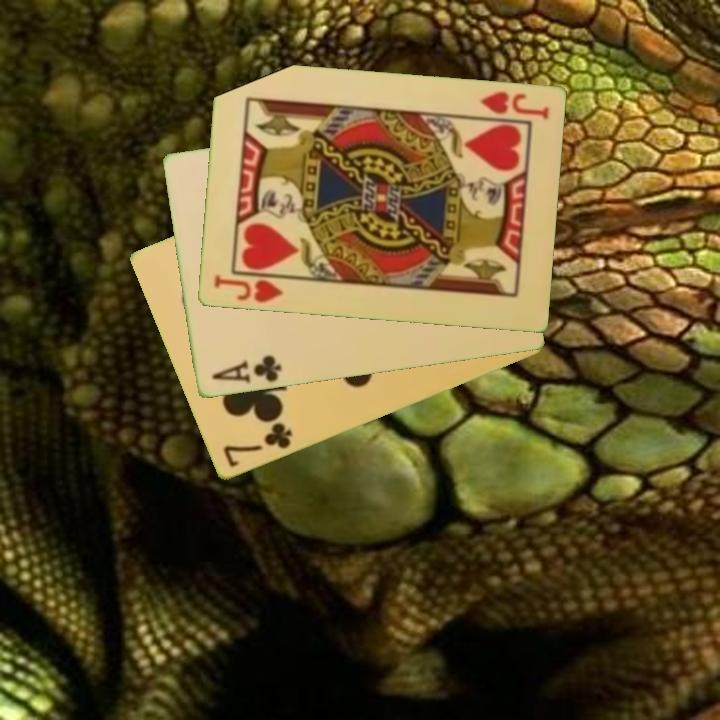7c: (219, 419, 295, 471)
Ac: (208, 352, 284, 387)
Jh: (210, 270, 293, 307), (475, 88, 551, 123)
